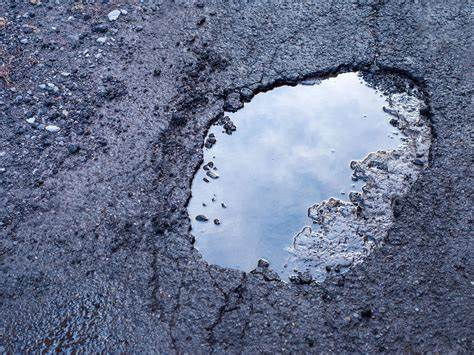Pothole: (169, 49, 443, 301)
